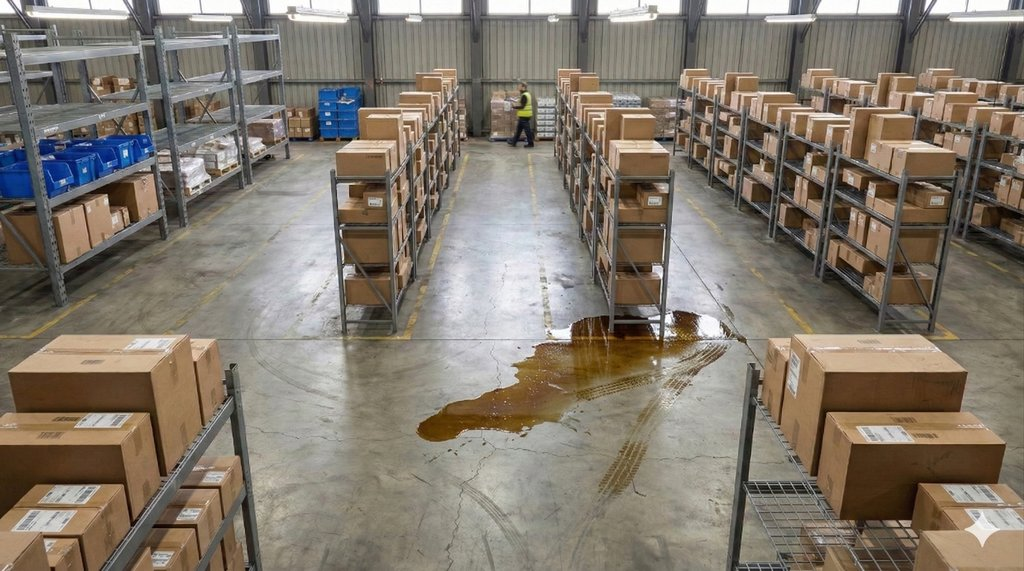empty_shelf: (0, 0, 150, 120), (155, 0, 288, 117)
person: (510, 72, 544, 151)
safety_vest: (519, 90, 537, 118)
spill: (416, 293, 731, 454)
